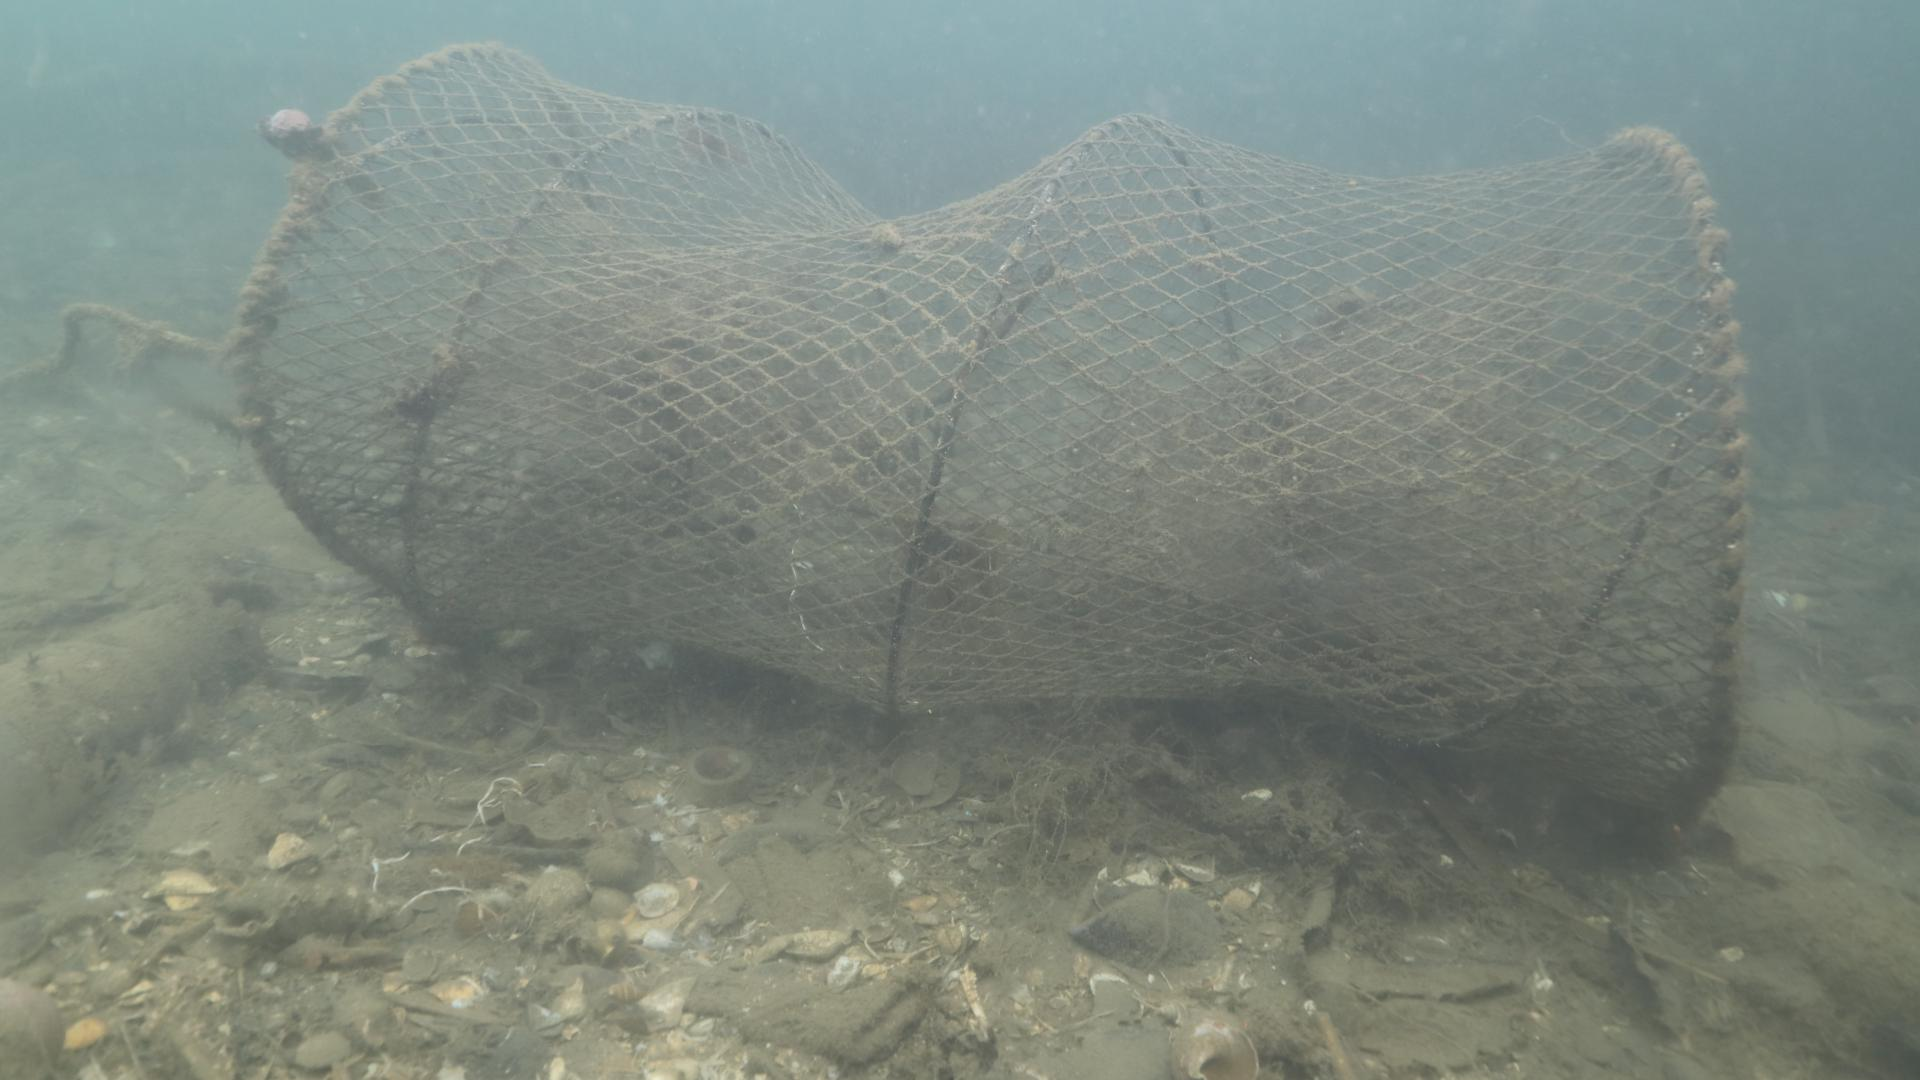spring fish trap: (231, 41, 1751, 832)
